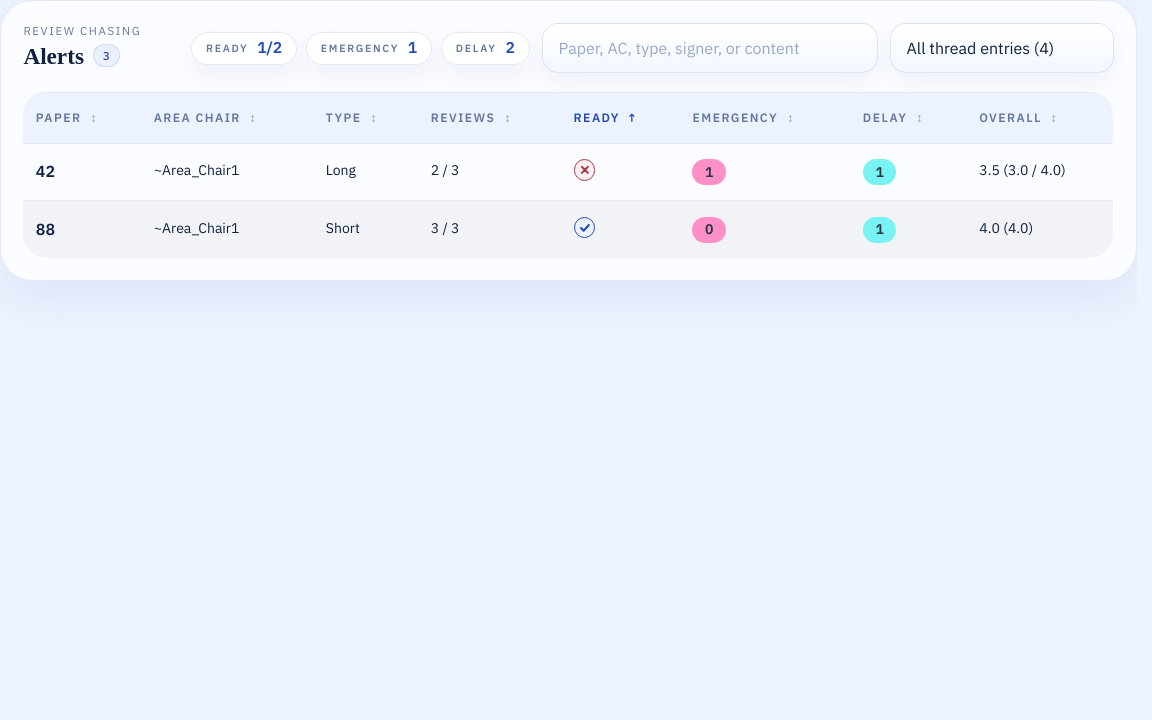
Test: AlertsPanel › does not load images embedded in OpenReview-authored Markdown
Click the button "88": (82, 230) [36,217,128,242]
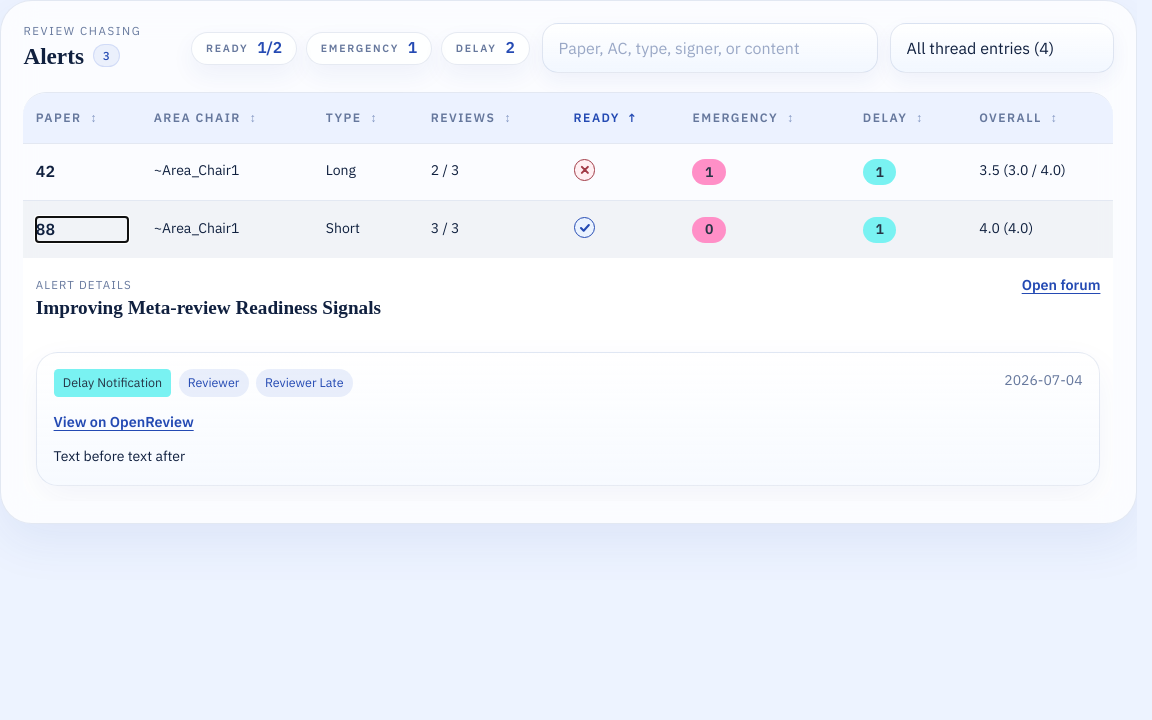
Expected: the text "Text before text after" is shown, [54,448,186,466]
